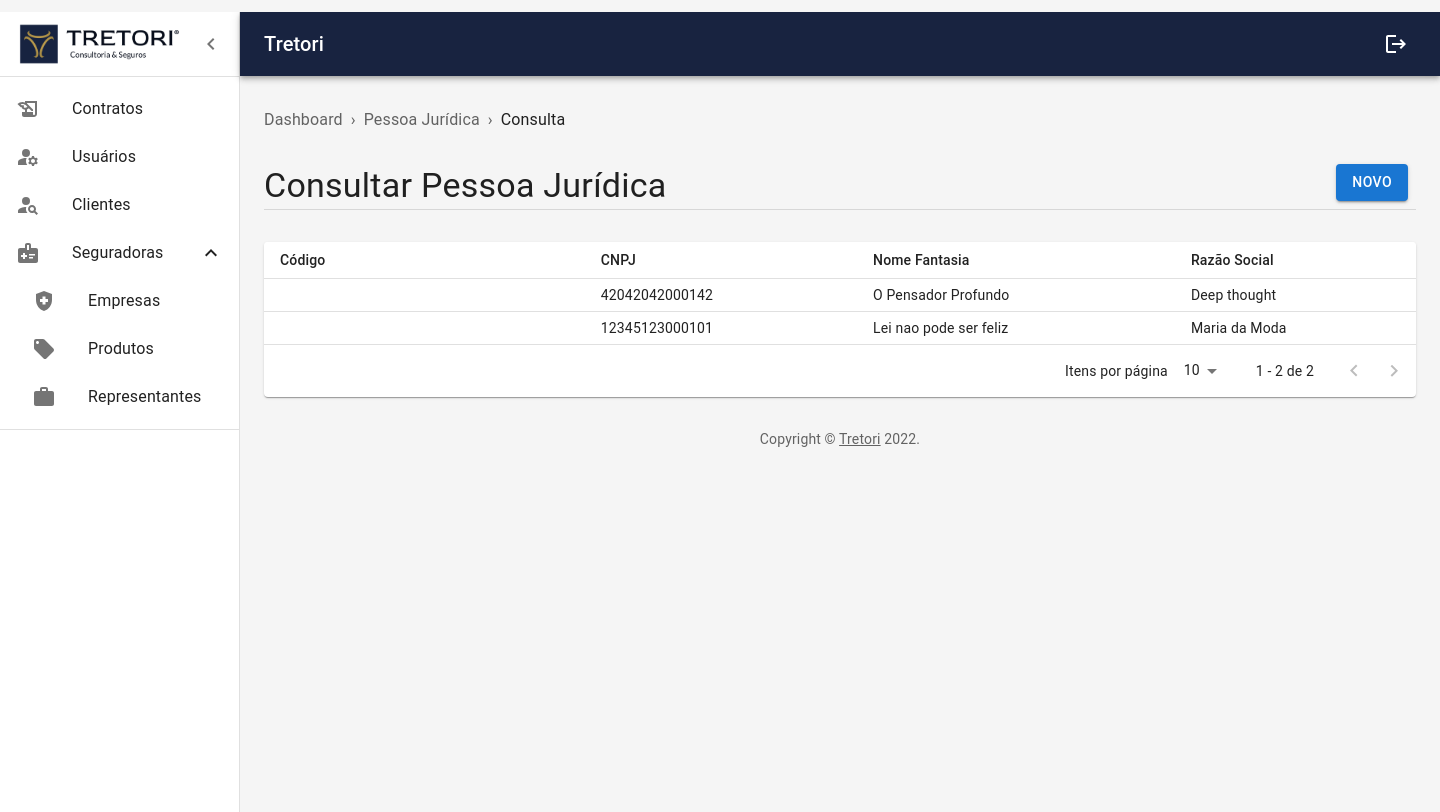
Customer - Legal person › should view an existing Legal person
Click the cell with id "0-cnpj".
click(721, 296)  # box x1=585 y1=279 x2=857 y2=312
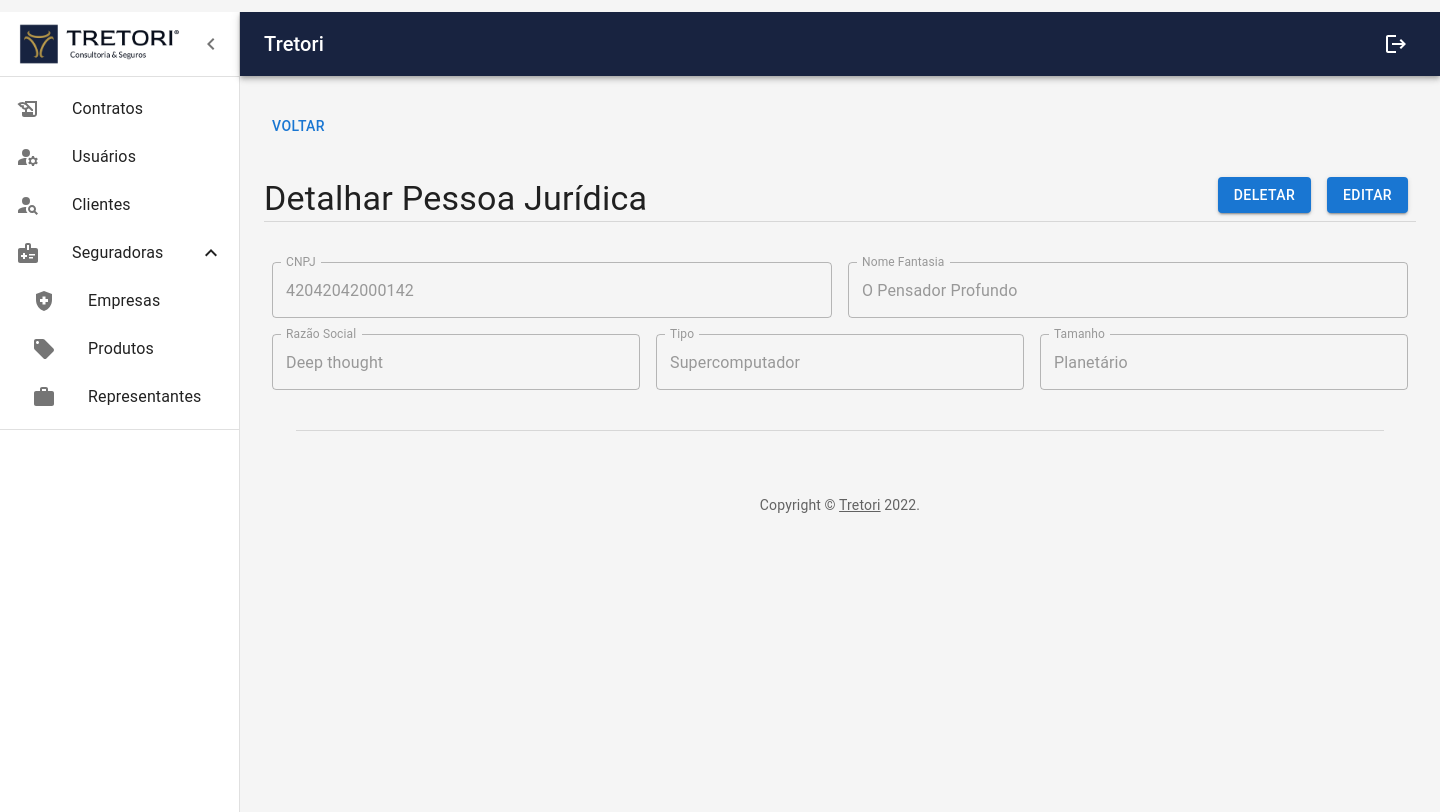
Now the field named "cnpj" holds "42042042000142", box x1=272 y1=262 x2=832 y2=318
Now the field named "fantasy_name" holds "O Pensador Profundo", box x1=848 y1=262 x2=1408 y2=318
Now the field named "social_reason" holds "Deep thought", box x1=272 y1=334 x2=640 y2=390
